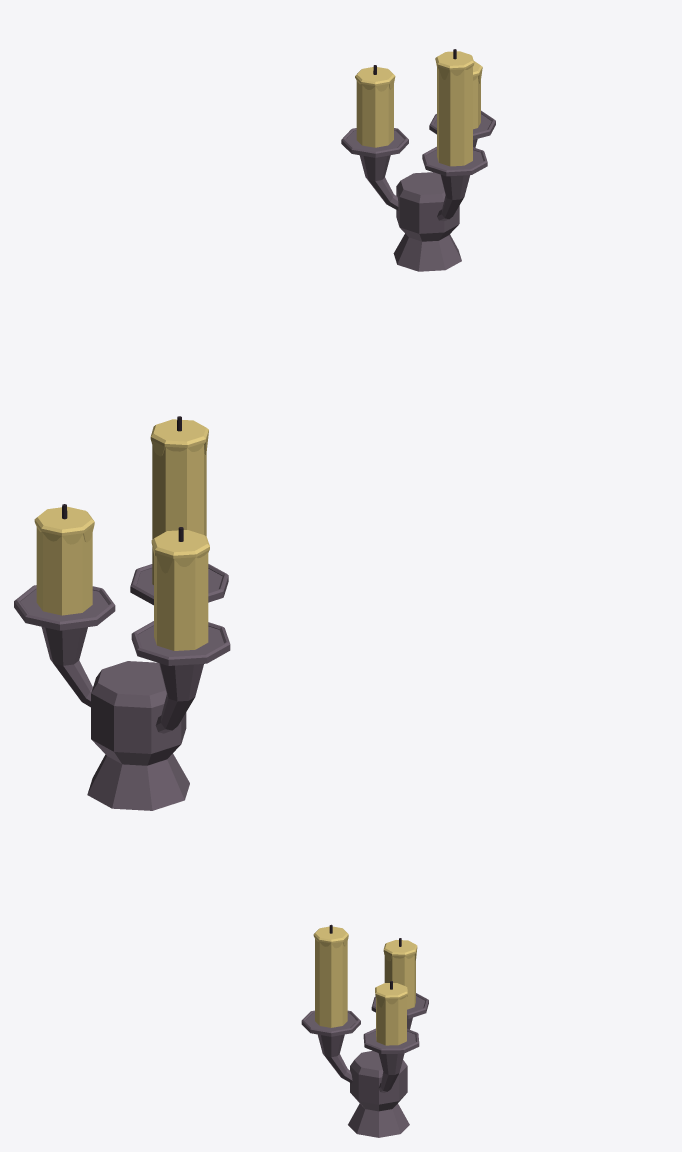
File: CandleMulti.fbx
3 views of the same model, one above another, from view 1: azimuth 30°, elevation 25°; view 2: azimuth 150°, elevation 25°; view 3: azimuth 270°, elevation 25° (orthographic). The views are drawn at different scales.
Parts seen in each view (by area): view 1: Candle Unlit; view 2: Candle Unlit; view 3: Candle Unlit.
Part boxes in pixels (box(x1,y1,x2,y2)): Candle Unlit: box(341, 49, 495, 271); Candle Unlit: box(14, 416, 230, 810); Candle Unlit: box(301, 924, 428, 1137).
Bounding box in the file's own units: 76.72 × 41.79 × 124.
